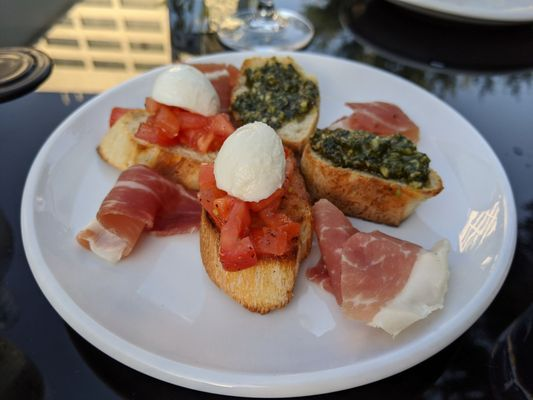curry: (229, 57, 320, 149), (310, 125, 431, 189)
soup: (197, 123, 313, 316)
